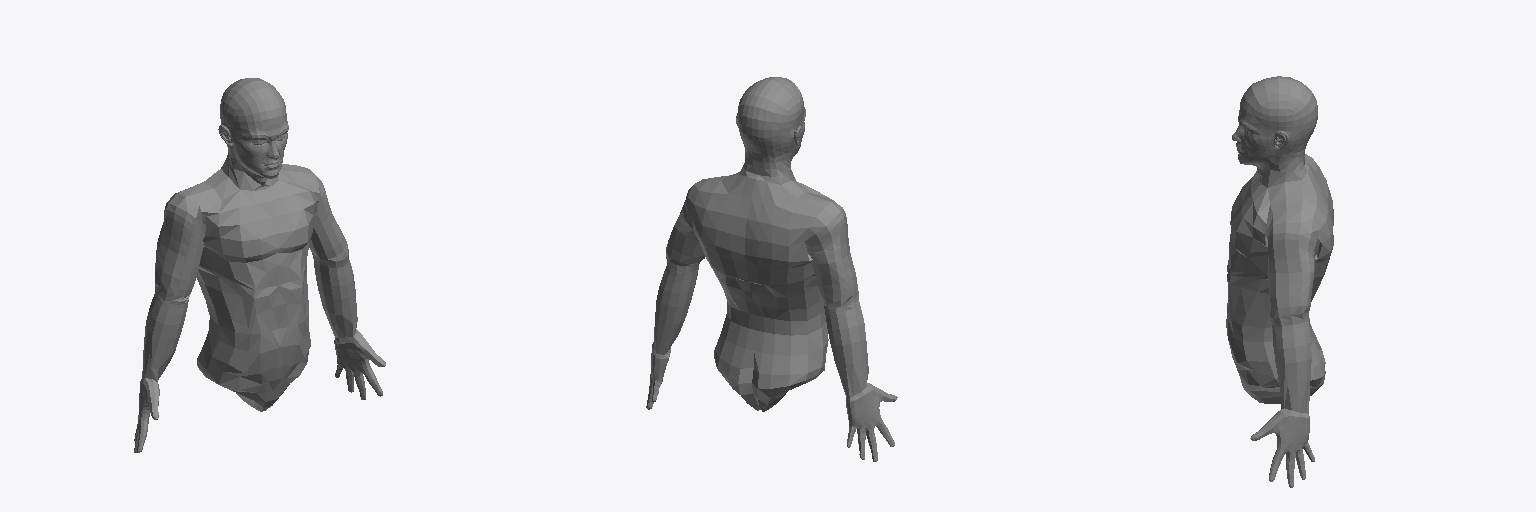
The model's file is MikeRelax.obj.
The picture shows the model from 3 angles: view 1: azimuth 30°, elevation 25°; view 2: azimuth 150°, elevation 25°; view 3: azimuth 270°, elevation 25°; orthographic projection.
Visible parts, largest first — view 1: Mike; view 2: Mike; view 3: Mike.
Part boxes in pixels (x1,y1,x2,y2): Mike: (134, 78, 385, 452); Mike: (646, 77, 897, 461); Mike: (1226, 76, 1333, 487).
Bounding box in the file's own units: 41.7 × 57.29 × 15.88.